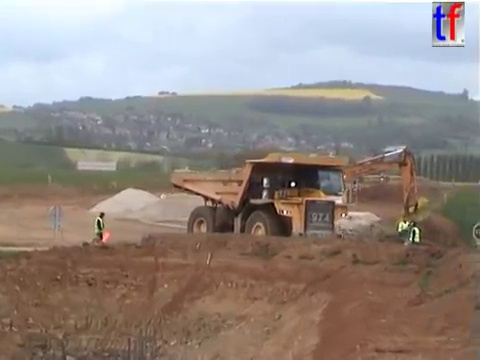excavator: (221, 146, 424, 239)
truck: (166, 154, 359, 253), (378, 173, 389, 184)
worker: (92, 209, 108, 248), (406, 219, 423, 250), (396, 216, 411, 243), (404, 213, 415, 240)
